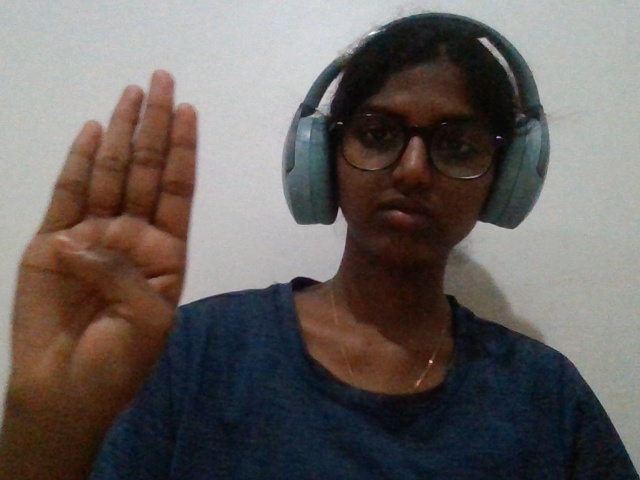B: (2, 51, 211, 474)
